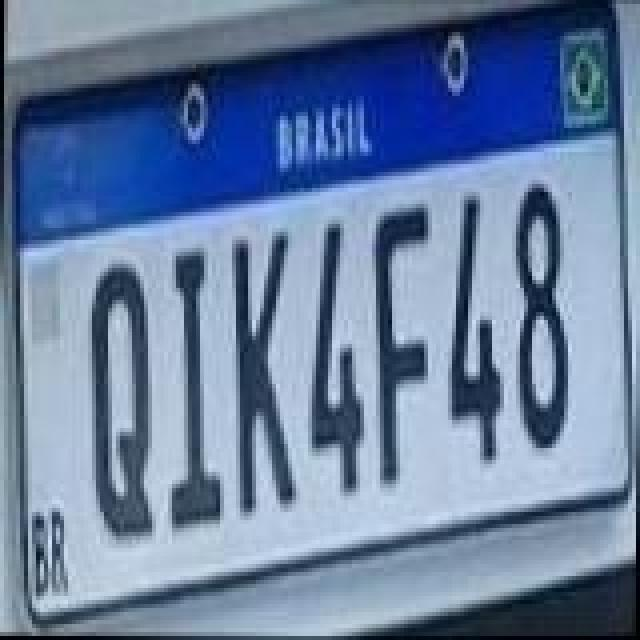4: (306, 220, 366, 496), (450, 198, 510, 466)
8: (514, 186, 574, 454)
F: (370, 200, 430, 488)
I: (168, 244, 228, 532)
K: (228, 230, 300, 518)
Q: (86, 260, 158, 540)
